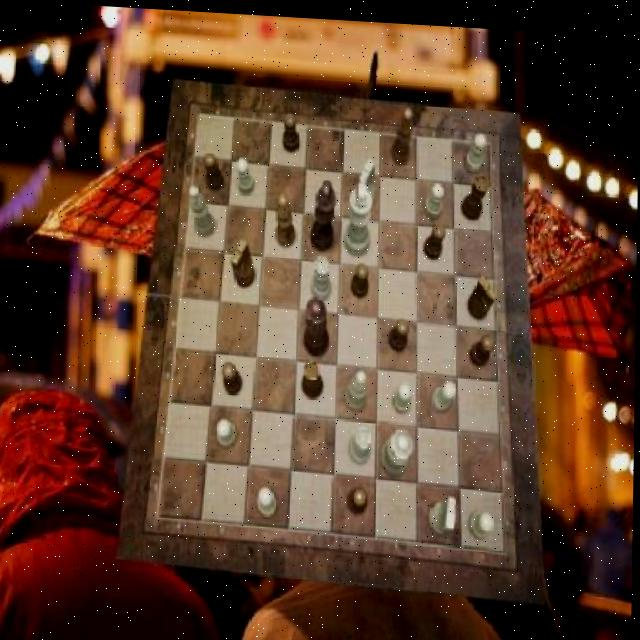bishop: (392, 103, 414, 162), (277, 190, 298, 245)
black-bishop: (311, 174, 336, 248)
black-king: (469, 270, 500, 315), (231, 235, 256, 286)
black-knight: (471, 327, 496, 362), (204, 149, 224, 189), (424, 219, 446, 254), (284, 110, 302, 151), (390, 314, 411, 349), (223, 360, 243, 393), (352, 258, 370, 294), (350, 483, 370, 511)
black-pawn: (305, 293, 331, 354)
black-queen: (463, 168, 491, 215), (302, 356, 325, 395)
black-rook: (190, 182, 217, 235), (346, 367, 370, 408)
white-bishop: (345, 178, 373, 253)
white-king: (429, 490, 457, 529), (356, 154, 377, 206)
white-knight: (466, 128, 487, 169), (432, 374, 457, 408), (425, 178, 446, 215), (471, 505, 496, 534), (236, 156, 256, 192), (394, 377, 413, 410), (260, 485, 281, 513), (218, 417, 238, 445)
white-pawn: (382, 424, 416, 473)
white-queen: (312, 252, 333, 297), (350, 421, 374, 460)
